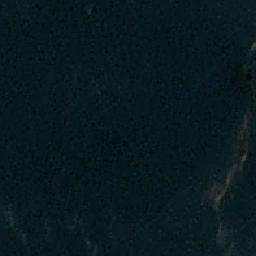debris: (214, 223, 242, 251), (210, 182, 229, 202), (83, 237, 99, 256), (239, 116, 250, 140), (3, 200, 15, 221), (70, 215, 84, 231), (227, 165, 238, 181), (239, 150, 249, 164), (20, 230, 26, 248), (248, 42, 256, 51)
